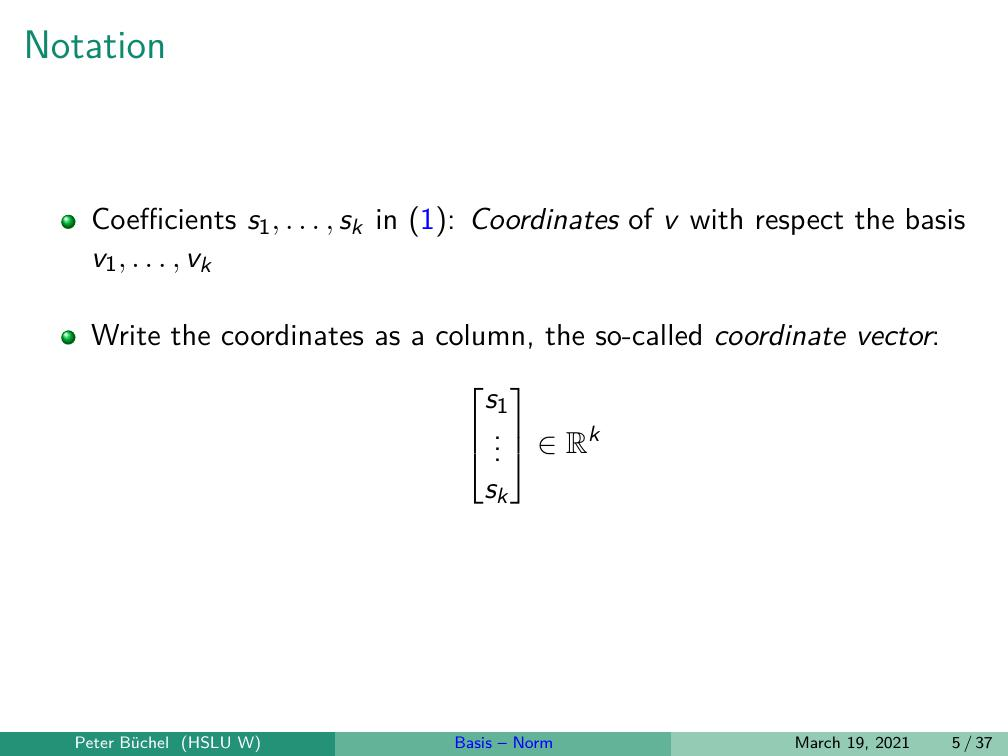Title: (16, 18, 176, 70)
